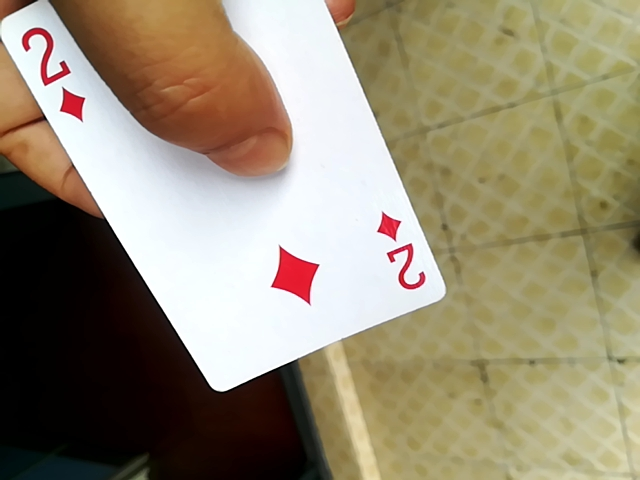fk 2: (3, 0, 453, 392)
